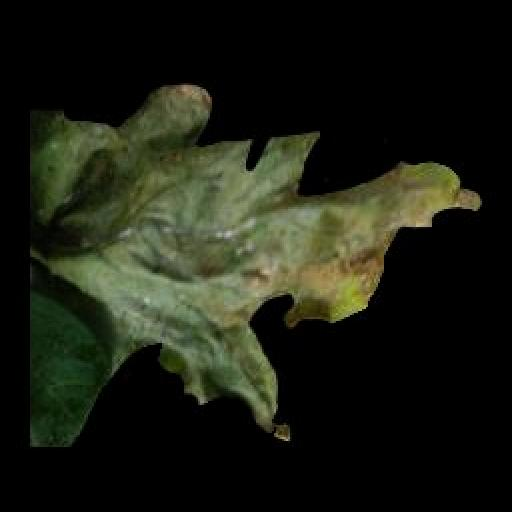disease_tomato: (30, 78, 482, 446)
